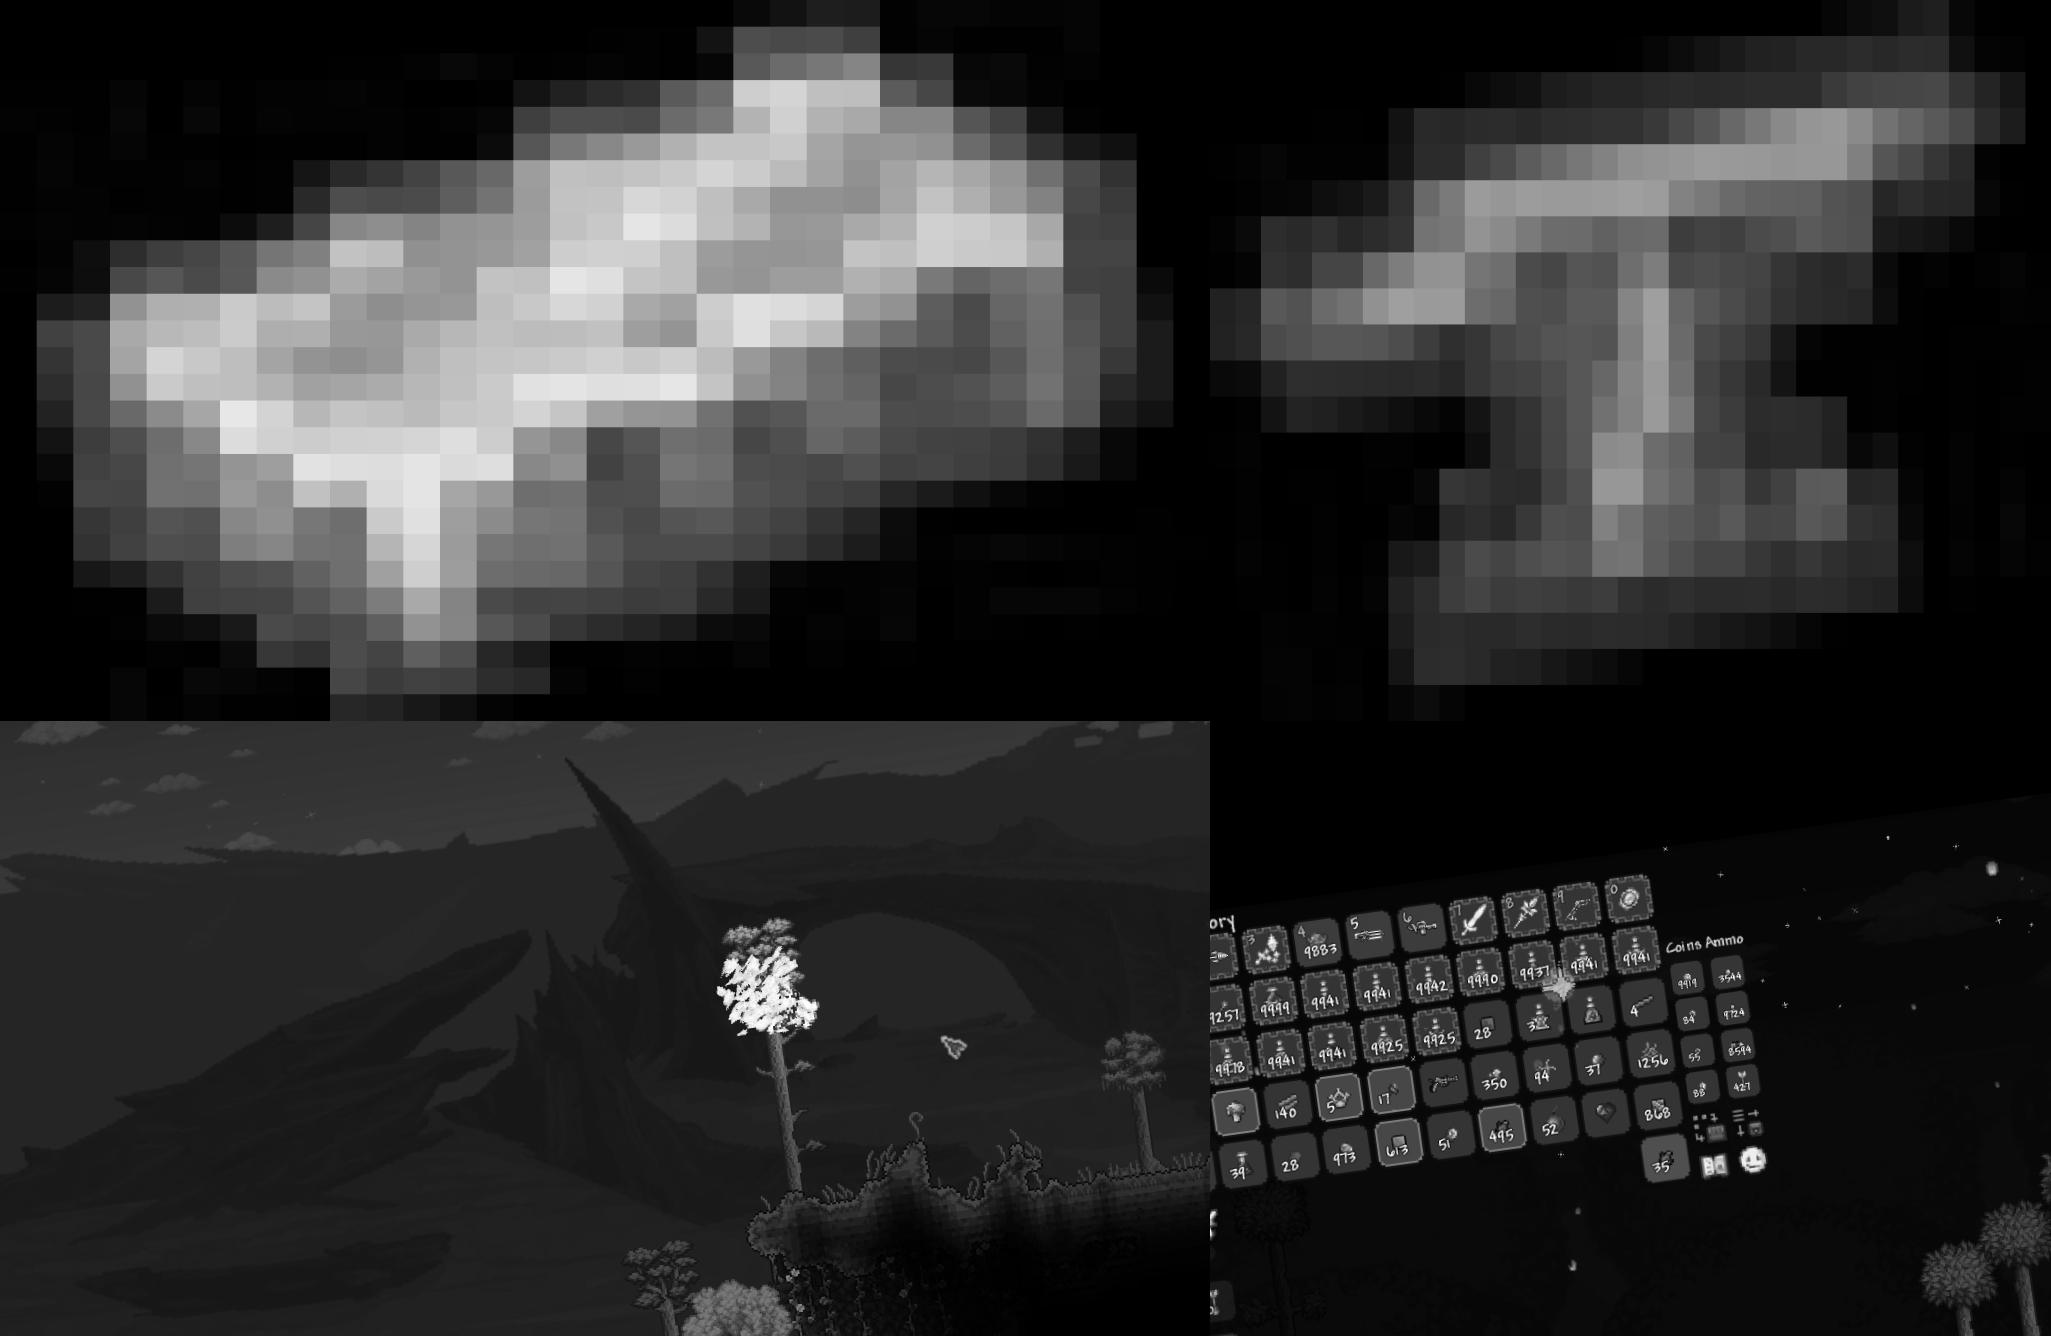anvil: (1209, 0, 2051, 720)
bar: (0, 0, 1209, 720)
crimstone: (1061, 1172, 1102, 1212)
mirror: (1613, 885, 1643, 918)
